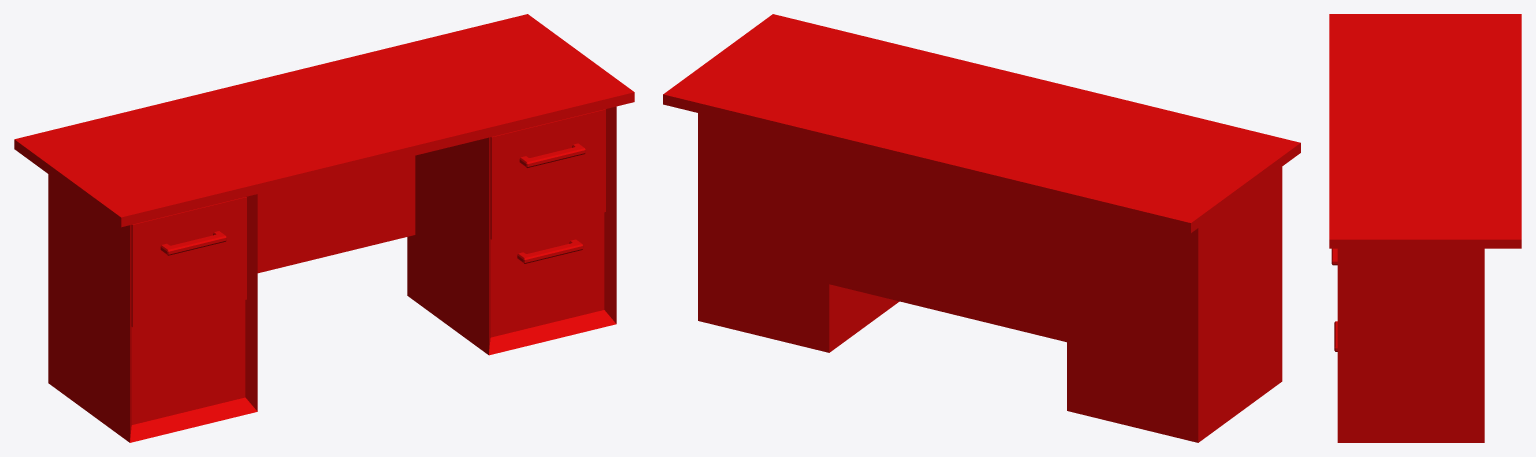
File: Desk.fbx
3 renders of one model, left to right at view 1: azimuth 30°, elevation 25°; view 2: azimuth 150°, elevation 25°; view 3: azimuth 270°, elevation 25°, orthographic. The views are drawn at different scales.
Visible parts, largest first — view 1: polySurface14, polySurface13; view 2: polySurface14; view 3: polySurface14.
Boxes of the visible parts, x1,y1,x2,y2 form: polySurface14: (14,14,634,442); polySurface13: (131,197,246,327); polySurface14: (663,14,1300,442); polySurface14: (1329,14,1521,442).
Size of the model in its own units: 219 by 94.71 by 79.02.
